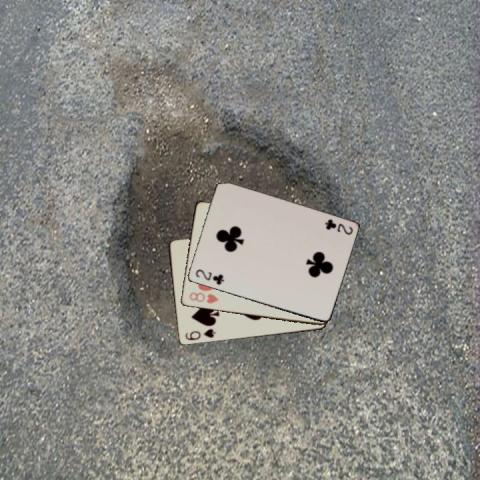2c: (192, 266, 225, 287), (322, 216, 354, 237)
6s: (182, 326, 217, 342)
8h: (186, 289, 220, 305)
